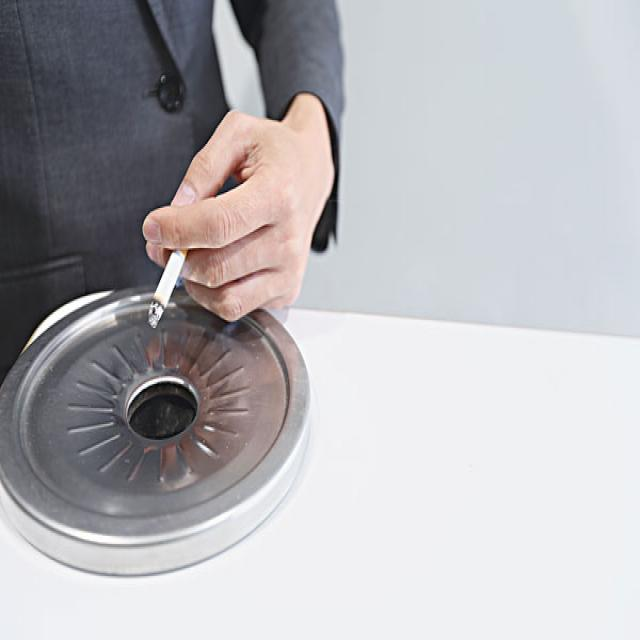smoking: (148, 204, 190, 328)
